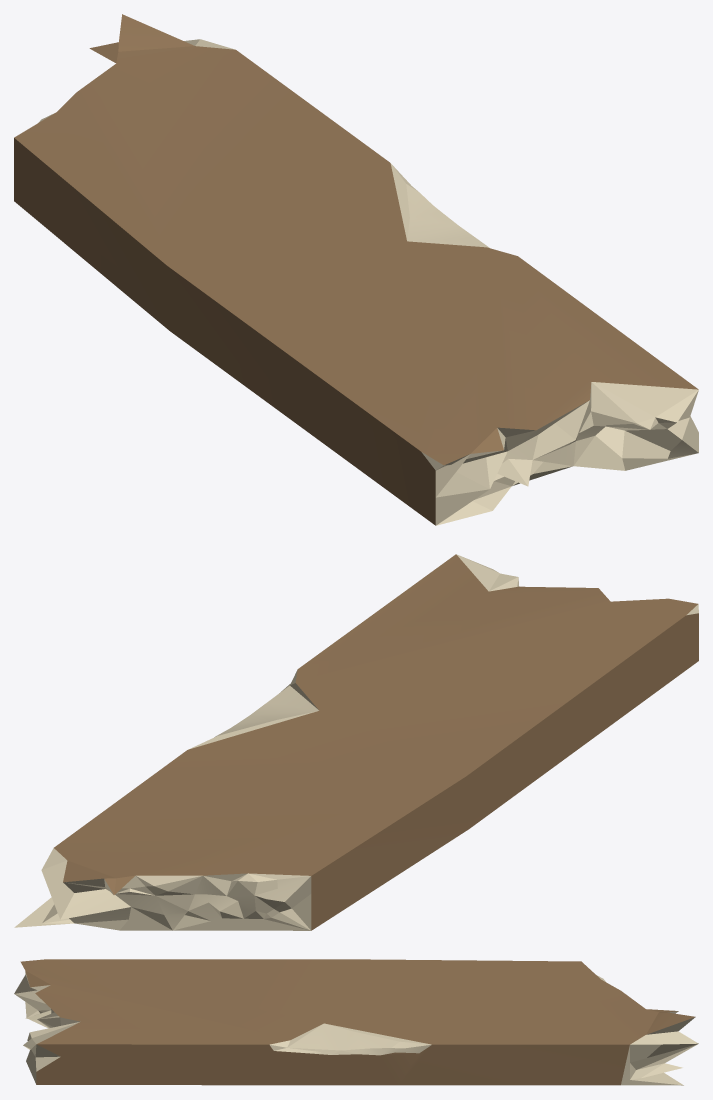
File: Plank6.fbx
3 renders of one model, top to bottom at view 1: azimuth 30°, elevation 25°; view 2: azimuth 150°, elevation 25°; view 3: azimuth 270°, elevation 25°, orthographic. The views are drawn at different scales.
Parts seen in each view (by area): view 1: 6; view 2: 6; view 3: 6.
Part boxes in pixels (x1,y1,x2,y2): 6: (14, 14, 698, 525); 6: (14, 554, 698, 930); 6: (14, 959, 698, 1085).
Bounding box in the file's own units: 45.57 × 12.06 × 153.
